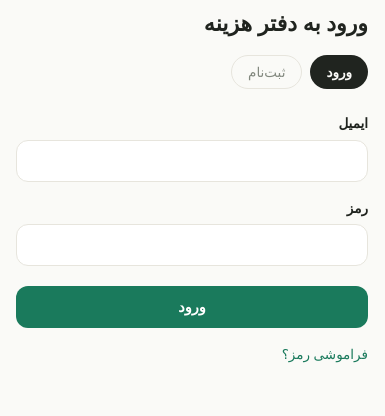
Test: LoginForm (ticket 29) › shows the network voice when the request throws
Type "a@example.com" into the field labelled "ایمیل" at (192, 160), box [16,140,368,182]
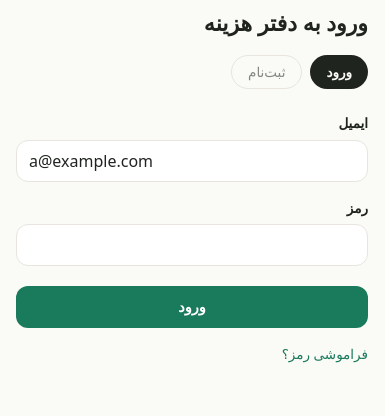
Type "whatever-123" into the password field labelled "رمز" at (192, 245), box [16,224,368,266]
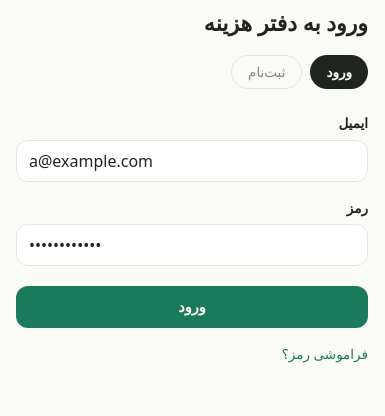
Click the submit button at (192, 307), box [16,286,368,328]
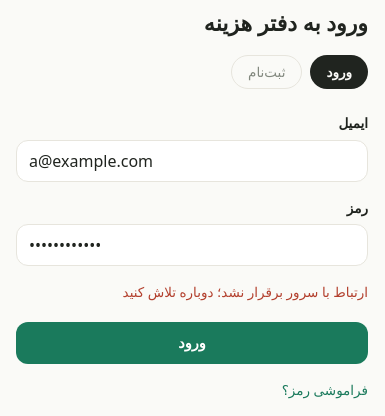
Expected: the text "ارتباط با سرور برقرار نشد؛ دوباره تلاش کنید" is shown, [122,283,368,301]
